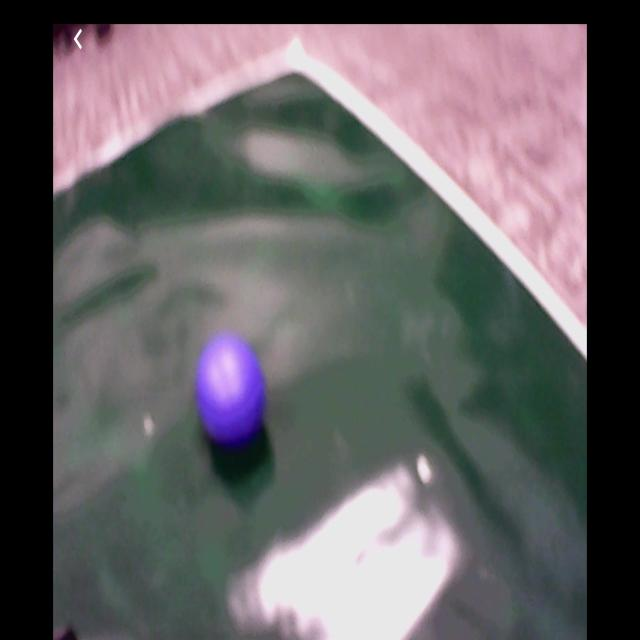ball: (194, 335, 268, 448)
